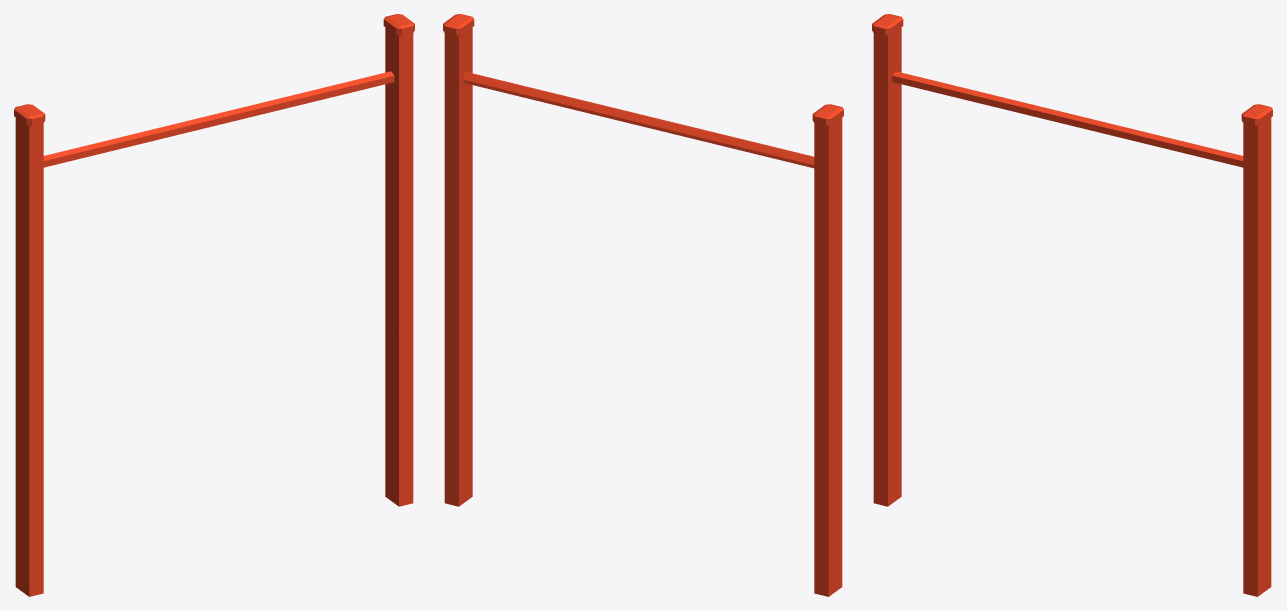
Rendered from SM_Pull_Bar_Gym_City.fbx.
The picture shows the model from 3 angles, left to right: view 1: azimuth 30°, elevation 25°; view 2: azimuth 150°, elevation 25°; view 3: azimuth 330°, elevation 25°; orthographic projection.
Parts seen in each view (by area): view 1: SM_Pull_Bar_Gym_City; view 2: SM_Pull_Bar_Gym_City; view 3: SM_Pull_Bar_Gym_City.
Boxes of the visible parts, x1=… form: SM_Pull_Bar_Gym_City: x1=14, y1=14, x2=414, y2=596; SM_Pull_Bar_Gym_City: x1=443, y1=14, x2=843, y2=596; SM_Pull_Bar_Gym_City: x1=872, y1=14, x2=1272, y2=596.
Size of the model in its own units: 2.1 by 2.48 by 0.1546.
